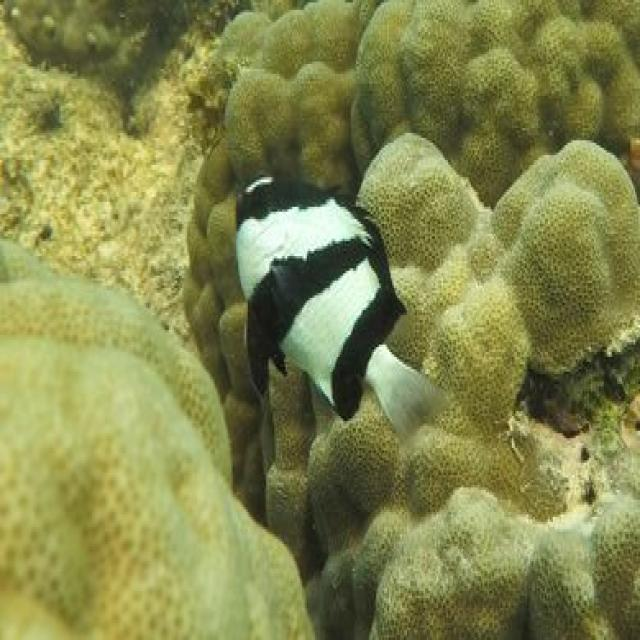ThreeStripedDamselfish: (231, 177, 415, 431)
